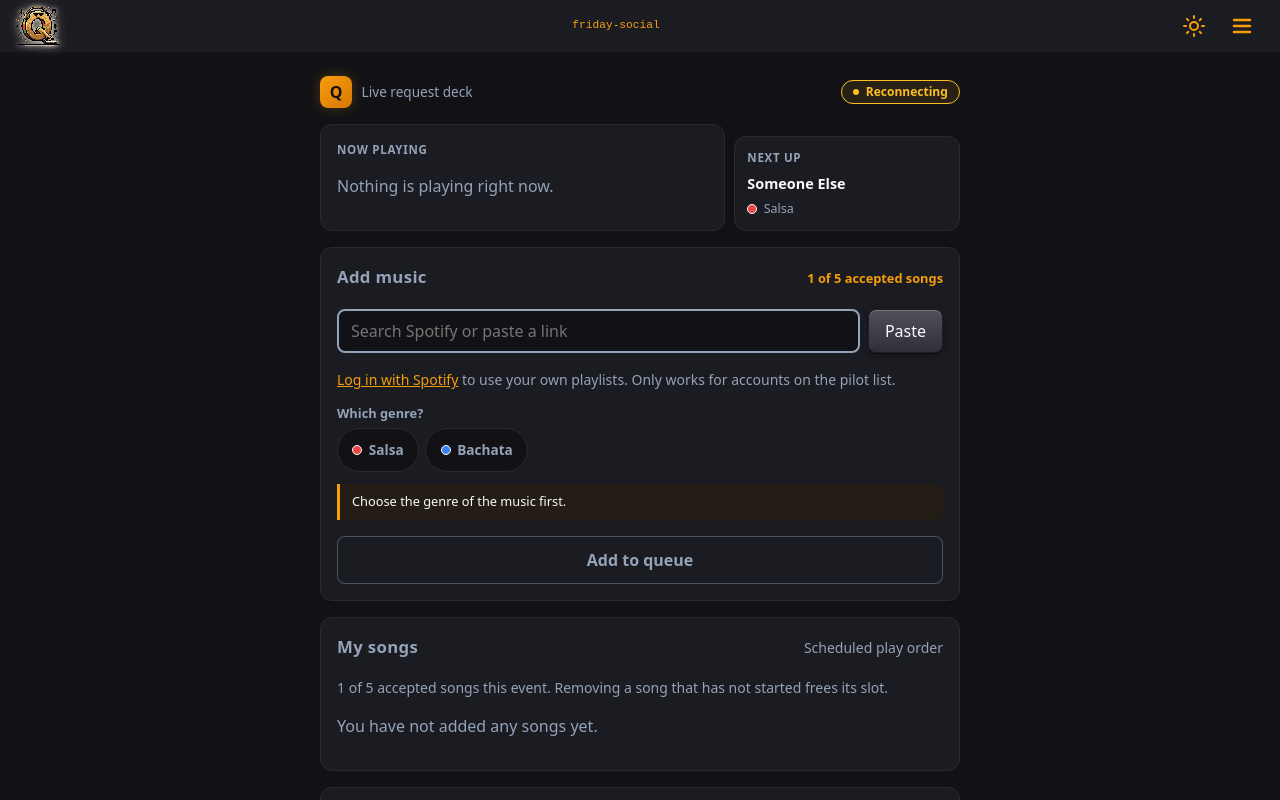
Test: EventPage › shows the server’s message and next action when a link is refused
Type "https://example.com/x" into the field labelled "Search Spotify or paste a link" at (598, 332), box [337,310,860,354]
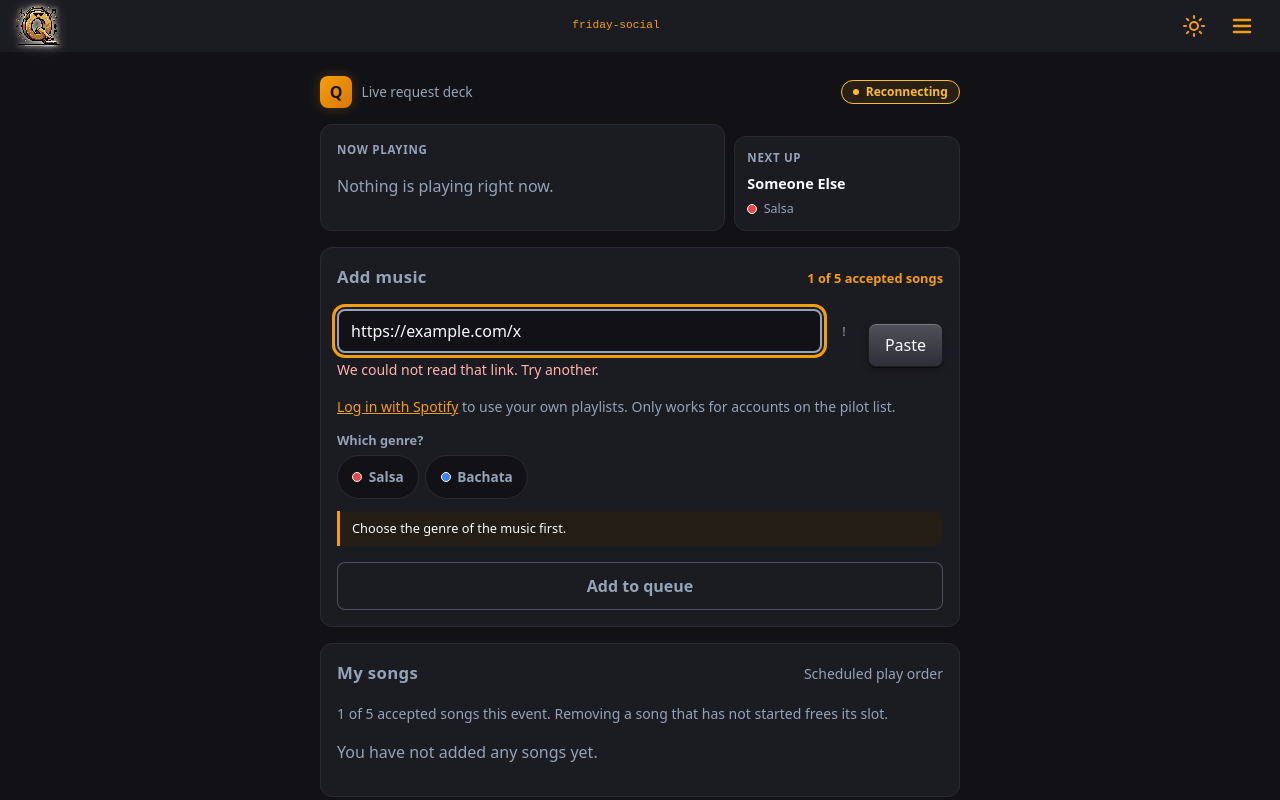
Expected: the message "We could not read that link. Try another." is shown, [337,360,599,379]
